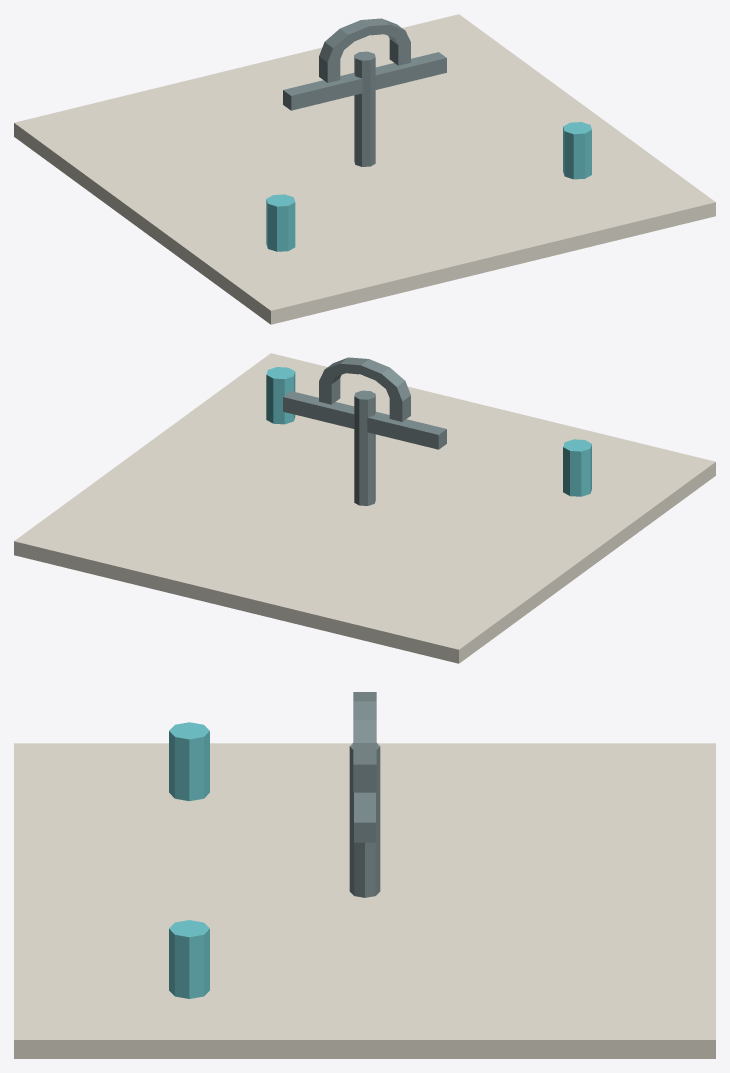
File: anchor_square_near-CheVVYc3.glb
3 views of the same model, one above another, from view 1: azimuth 30°, elevation 25°; view 2: azimuth 150°, elevation 25°; view 3: azimuth 270°, elevation 25° (orthographic). The views are drawn at different scales.
Visible parts, largest first — view 1: anchor_square_near; view 2: anchor_square_near; view 3: anchor_square_near.
Boxes of the visible parts, box(x1,y1,x2,y2) form: anchor_square_near: box(14, 14, 715, 324); anchor_square_near: box(14, 353, 715, 663); anchor_square_near: box(14, 692, 715, 1058).
Bounding box in the file's own units: 12 × 4.05 × 12.
